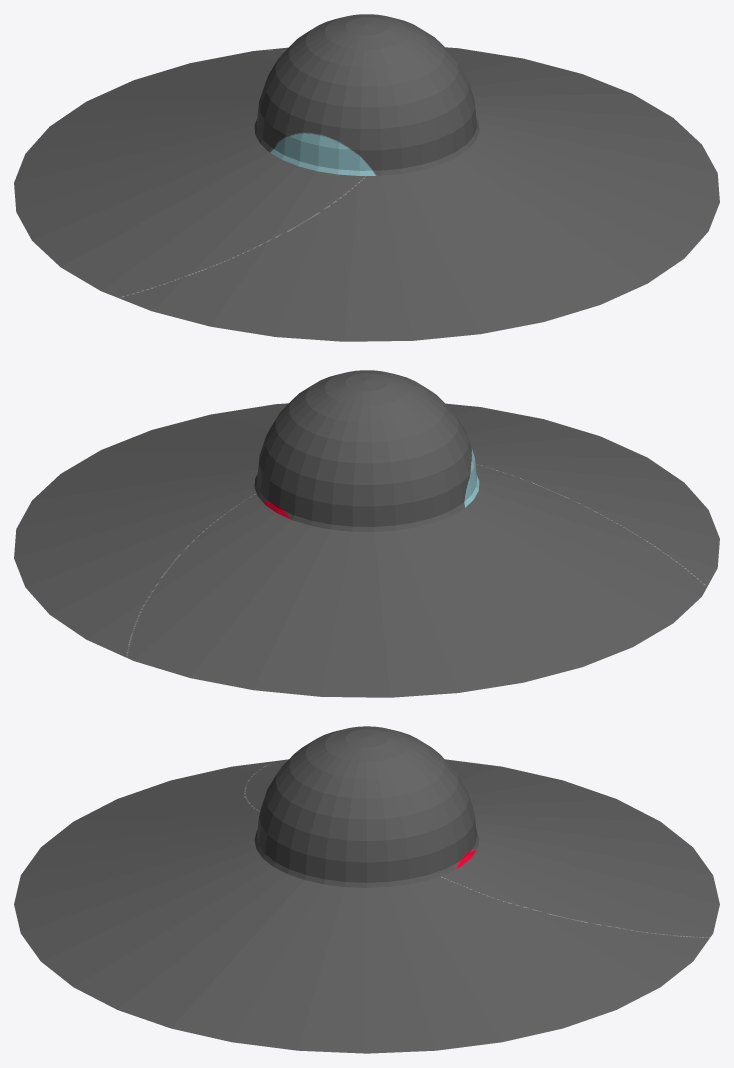
Rendered from ufo.obj.
3 renders of one model, top to bottom at view 1: azimuth 30°, elevation 25°; view 2: azimuth 150°, elevation 25°; view 3: azimuth 270°, elevation 25°, orthographic.
Visible parts, largest first — view 1: Circle; view 2: Circle; view 3: Circle.
Boxes of the visible parts, <box> form: Circle: <box>14,14,719,341</box>; Circle: <box>14,370,719,697</box>; Circle: <box>14,726,719,1053</box>.
Bounding box in the file's own units: 7 × 2.37 × 7.
Materials: 1 (1 with a texture image).
